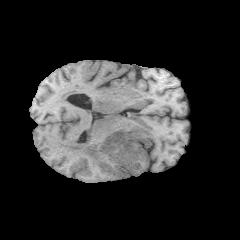glioma: (75, 125, 151, 170)
